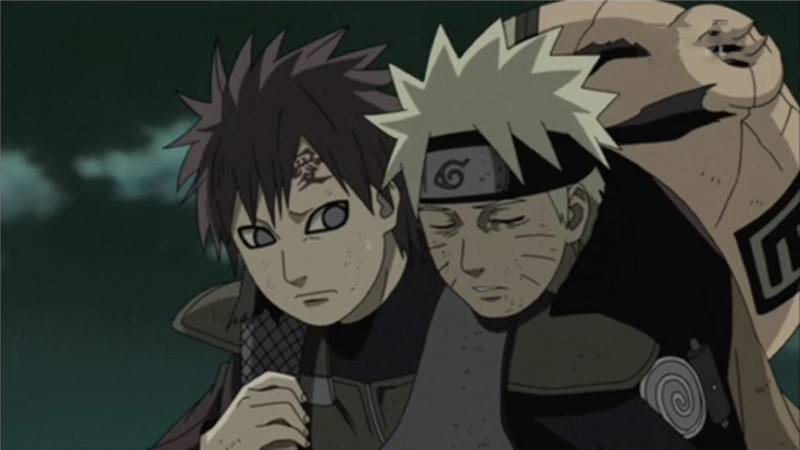gaara: (223, 127, 402, 332)
naruto: (414, 127, 595, 322)
